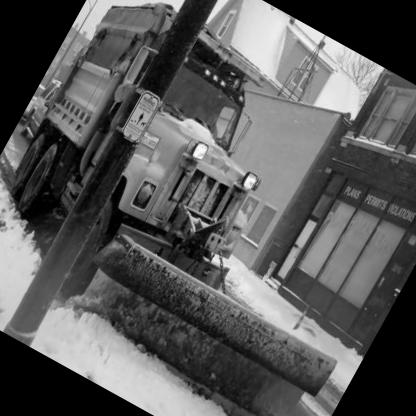truck: (1, 1, 330, 346)
